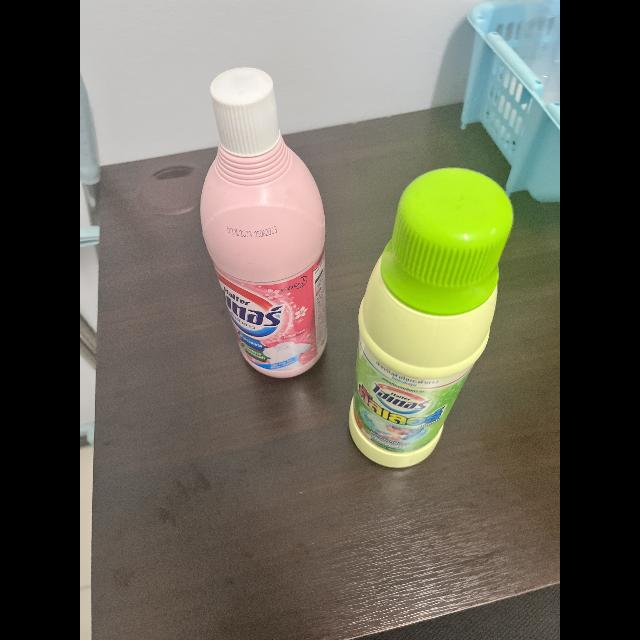chemical_plastic_bottle: (343, 160, 514, 474), (196, 67, 332, 381)
